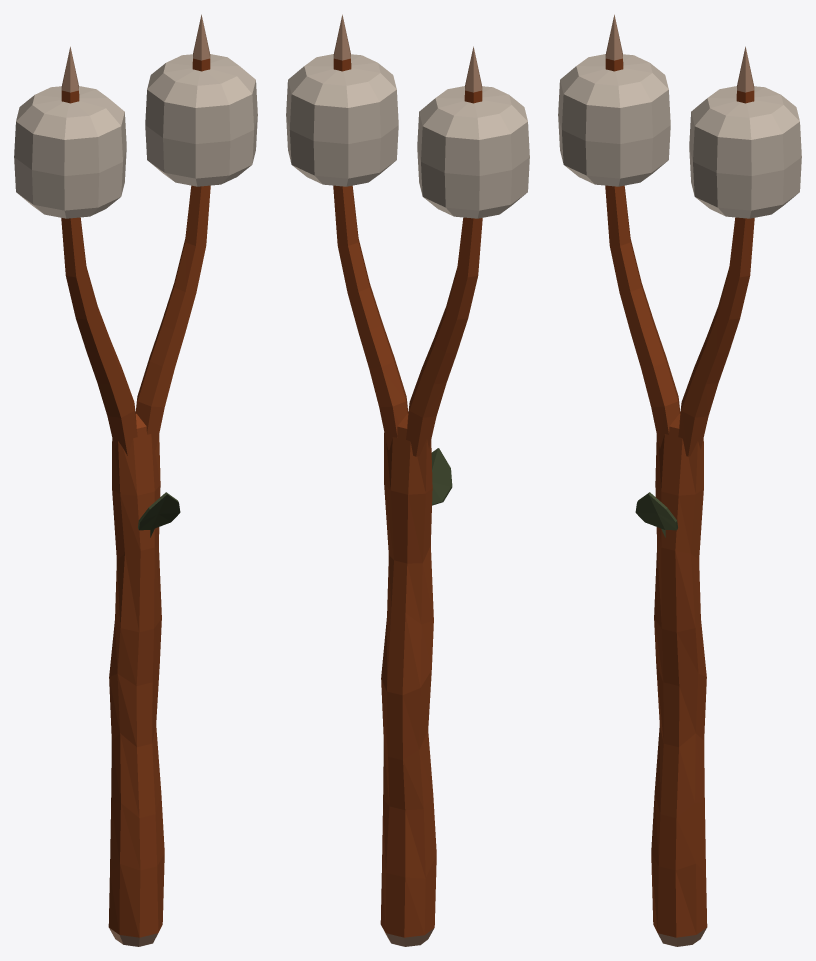
The model's file is marshmallow-stick-e955c7.glb.
The picture shows the model from 3 angles, left to right: view 1: azimuth 30°, elevation 25°; view 2: azimuth 150°, elevation 25°; view 3: azimuth 330°, elevation 25°; orthographic projection.
Visible parts, largest first — view 1: stick, marshmallow-1-drum, marshmallow-2-drum, leaf-blade; view 2: stick, marshmallow-1-drum, marshmallow-2-drum, leaf-blade; view 3: stick, marshmallow-2-drum, marshmallow-1-drum, leaf-blade.
Boxes of the visible parts, bbox=[...] form: stick: bbox=[61, 14, 210, 946]; marshmallow-1-drum: bbox=[145, 54, 257, 186]; marshmallow-2-drum: bbox=[14, 86, 126, 218]; leaf-blade: bbox=[138, 492, 180, 537]; stick: bbox=[333, 14, 482, 946]; marshmallow-1-drum: bbox=[286, 54, 398, 186]; marshmallow-2-drum: bbox=[417, 86, 529, 218]; leaf-blade: bbox=[431, 448, 452, 505]; stick: bbox=[605, 14, 754, 946]; marshmallow-2-drum: bbox=[558, 54, 670, 186]; marshmallow-1-drum: bbox=[689, 86, 801, 218]; leaf-blade: bbox=[635, 492, 677, 537].
Size of the model in its own units: 0.2344 by 0.9 by 0.108.
